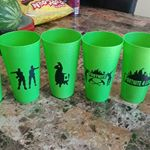cups: (82, 31, 125, 104), (1, 28, 42, 104), (42, 27, 83, 99), (120, 30, 150, 102)
